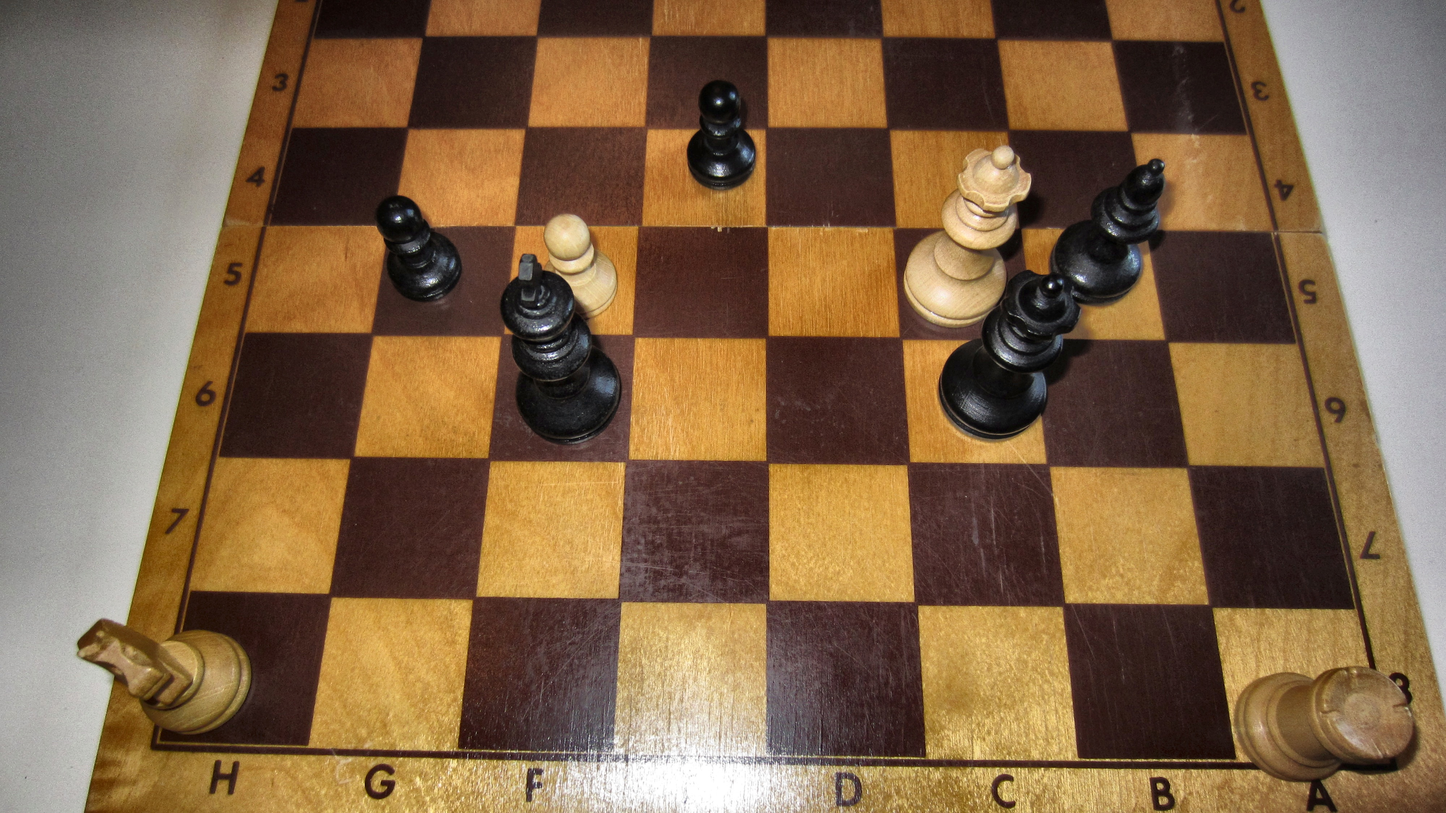black-bishop: (1047, 158, 1168, 306)
black-king: (497, 252, 621, 445)
black-pawn: (373, 192, 463, 302), (684, 79, 756, 190)
black-queen: (937, 270, 1081, 444)
white-knight: (74, 617, 253, 735)
white-pawn: (541, 210, 619, 320)
white-queen: (903, 144, 1032, 328)
white-rook: (1232, 665, 1417, 782)
